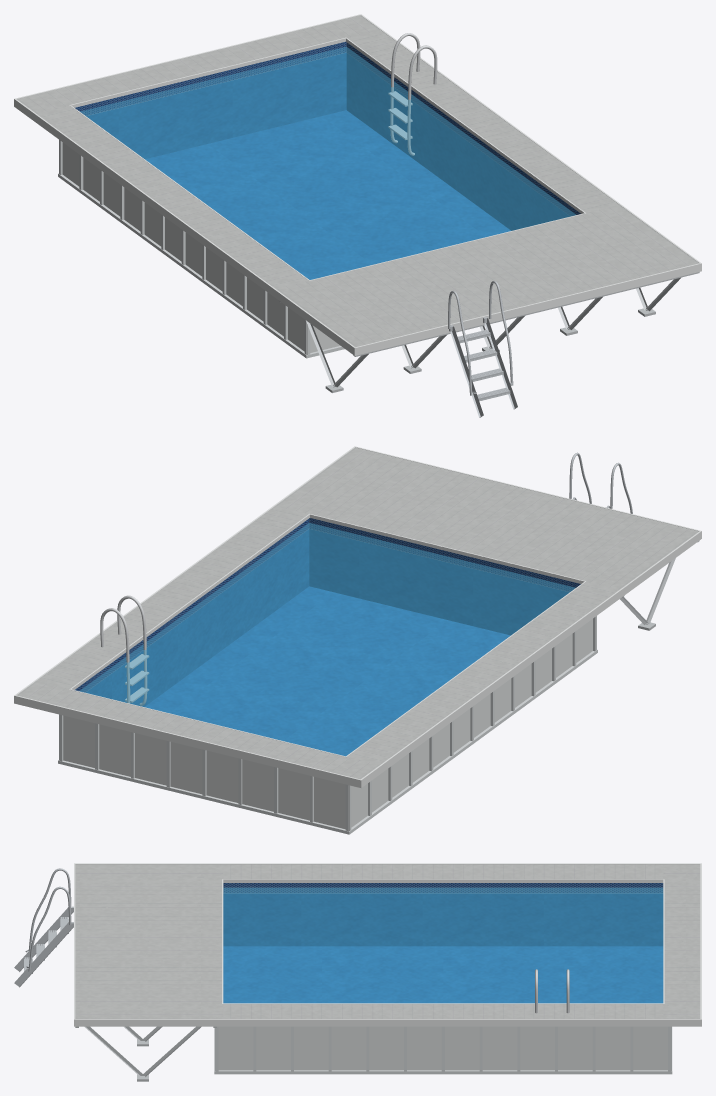
Rendered from kayak-pool-16x24-white-end-ag-nofence.14e0f87ddd.glb.
The picture shows the model from 3 angles, top to bottom: view 1: azimuth 30°, elevation 25°; view 2: azimuth 150°, elevation 25°; view 3: azimuth 270°, elevation 25°; orthographic projection. The views are drawn at different scales.
Parts seen in each view (by area): view 1: water, deck, liner_floor, liner_wall, fascia, wall, upright, stud, ladder, steel; view 2: water, deck, liner_floor, liner_wall, wall, fascia, upright, steel, stud, ladder; view 3: water, deck, liner_wall, liner_floor, wall, fascia, upright, ladder, stud.
Boxes of the visible parts, bbox=[...] form: water: bbox=[80, 46, 575, 279]; deck: bbox=[17, 15, 698, 347]; liner_floor: bbox=[145, 110, 510, 279]; liner_wall: bbox=[75, 41, 580, 230]; fascia: bbox=[14, 14, 701, 355]; wall: bbox=[62, 142, 340, 352]; upright: bbox=[58, 140, 344, 358]; stud: bbox=[278, 272, 699, 392]; ladder: bbox=[448, 281, 517, 417]; steel: bbox=[388, 33, 437, 155]; water: bbox=[80, 523, 575, 756]; deck: bbox=[17, 447, 698, 779]; liner_floor: bbox=[145, 586, 510, 756]; liner_wall: bbox=[75, 518, 580, 706]; wall: bbox=[63, 619, 592, 829]; fascia: bbox=[14, 446, 701, 787]; upright: bbox=[58, 616, 597, 834]; steel: bbox=[100, 595, 149, 705]; stud: bbox=[620, 541, 699, 630]; ladder: bbox=[569, 452, 632, 513]; water: bbox=[223, 887, 663, 1003]; deck: bbox=[75, 864, 700, 1018]; liner_wall: bbox=[223, 883, 663, 946]; liner_floor: bbox=[223, 946, 663, 1003]; wall: bbox=[218, 1026, 667, 1070]; fascia: bbox=[74, 863, 701, 1026]; upright: bbox=[214, 1026, 672, 1074]; ladder: bbox=[14, 868, 73, 987]; stud: bbox=[75, 1026, 216, 1081].
Size of the model in its own units: 6.1 by 1.9 by 11.35.
Materials: 10 (3 with a texture image).
